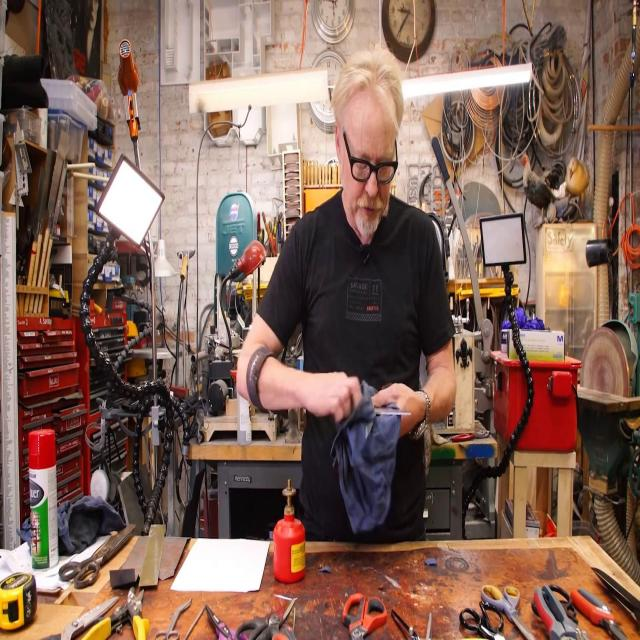scissor: (60, 523, 134, 590), (44, 594, 120, 640), (482, 582, 537, 640), (235, 598, 296, 640), (343, 589, 387, 640), (460, 597, 504, 640), (152, 597, 192, 640), (204, 603, 250, 640), (271, 607, 295, 640)
